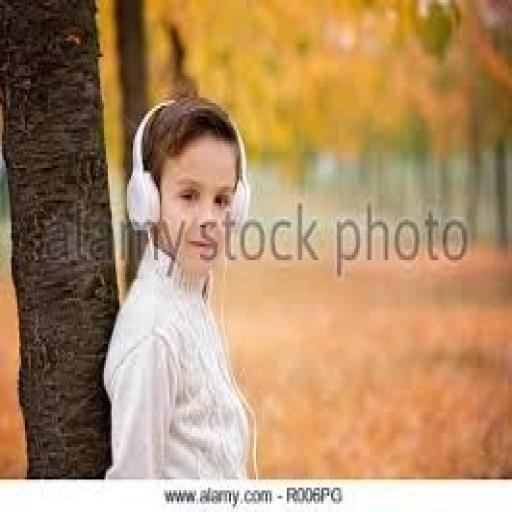listening_to_music: (100, 92, 260, 480), (123, 94, 252, 236)
